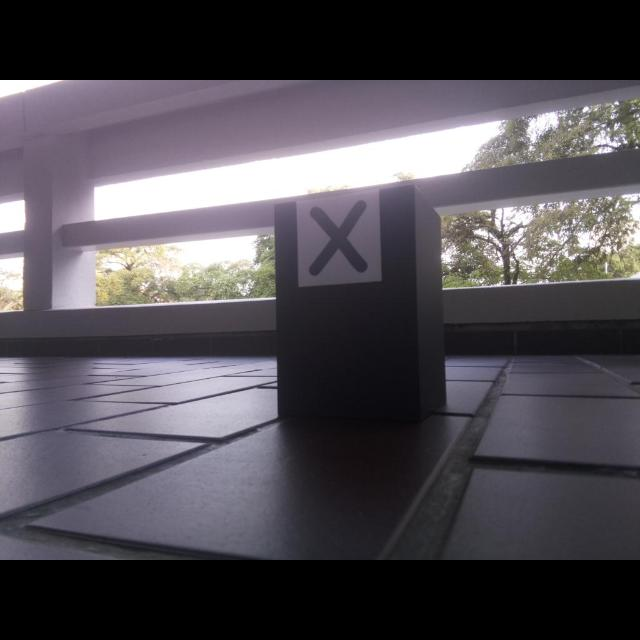X: (308, 200, 369, 276)
